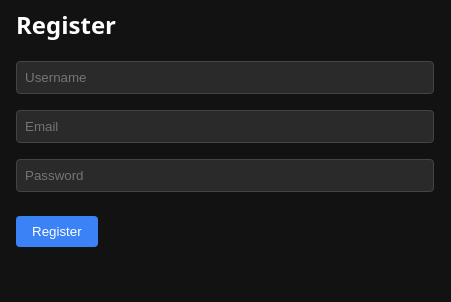
it: Register › shows success message and eventually navigates to /login
Type "alice" into the field with placeholder "Username" at (225, 77), box [16,61,434,94]
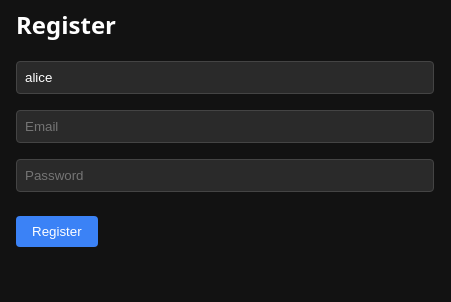
Type "alice@test.com" into the field with placeholder "Email" at (225, 126), box [16,110,434,143]
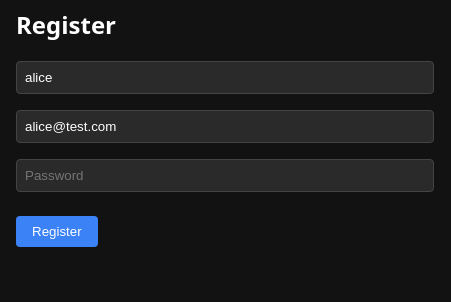
Type "pass123" into the password field with placeholder "Password" at (225, 175), box [16,159,434,192]
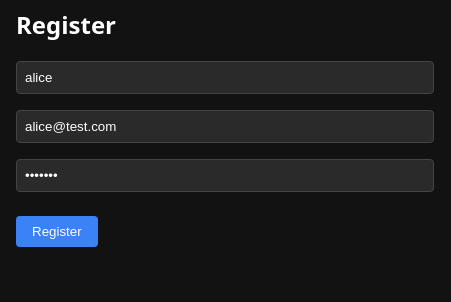
Click the button "Register" at (57, 231), box [16,216,98,247]
Wait 1500 ms
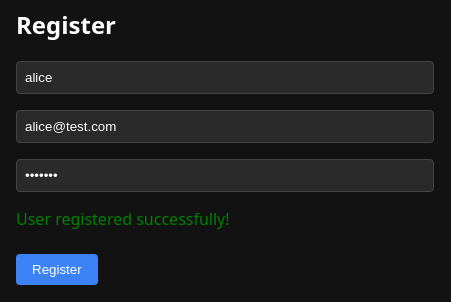
Result: the text "User registered successfully!" is shown at [16,208,230,230]
